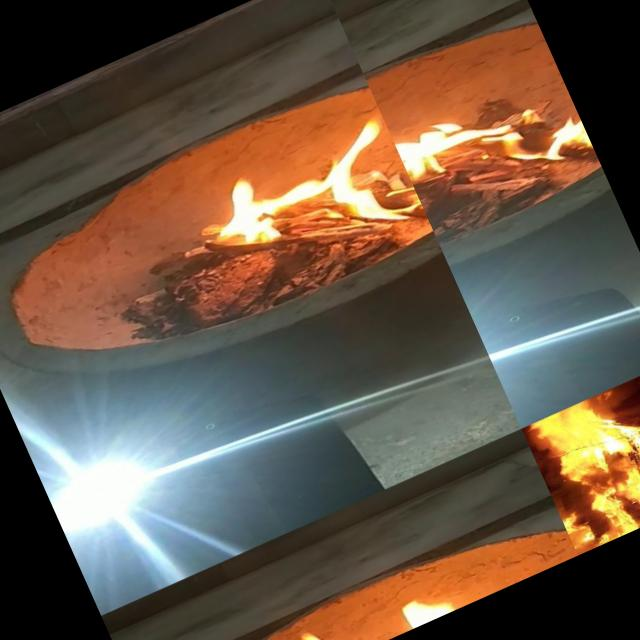fire: (374, 23, 604, 243), (188, 105, 430, 308), (259, 530, 563, 640), (521, 355, 640, 540), (587, 466, 640, 548)
smoke: (570, 532, 592, 556)
